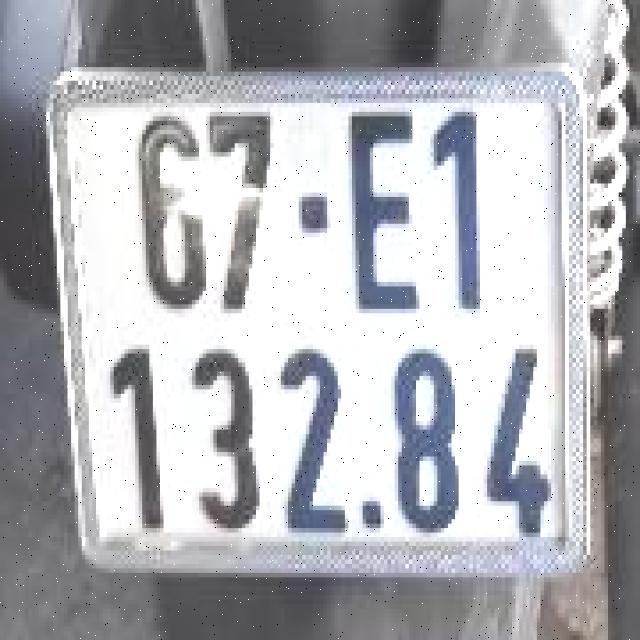1: (421, 83, 503, 329), (101, 324, 187, 553)
2: (272, 329, 354, 557)
3: (196, 336, 266, 542)
4: (480, 329, 565, 544)
6: (118, 99, 214, 322)
7: (201, 87, 286, 316)
8: (382, 329, 482, 548)
E: (331, 94, 423, 318)
